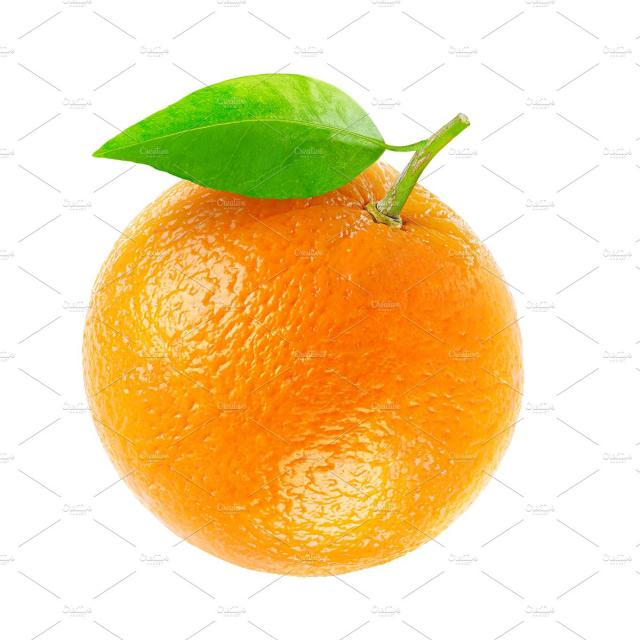orange: (80, 71, 528, 579)
